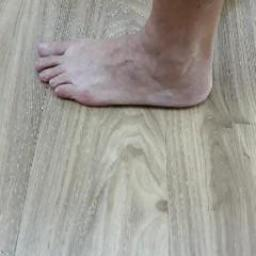Lateral View -Left Foot-: (22, 12, 240, 122)
